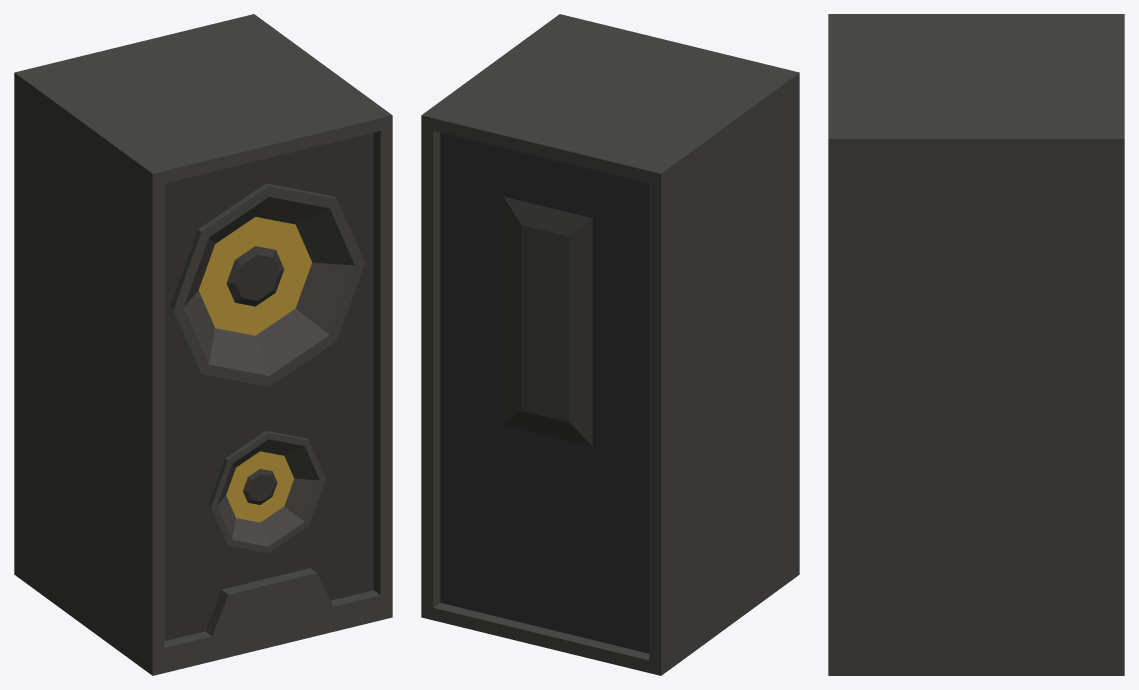
The model's file is SM_Props_Interior_House_Room_Speaker_01.fbx.
3 views of the same model, side by side, from view 1: azimuth 30°, elevation 25°; view 2: azimuth 150°, elevation 25°; view 3: azimuth 270°, elevation 25° (orthographic). The views are drawn at different scales.
Parts seen in each view (by area): view 1: SM_Props_Interior_House_Room_Speaker_01; view 2: SM_Props_Interior_House_Room_Speaker_01; view 3: SM_Props_Interior_House_Room_Speaker_01.
Part boxes in pixels (left/top/right/bottom): SM_Props_Interior_House_Room_Speaker_01: left=14, top=14, right=392, bottom=675; SM_Props_Interior_House_Room_Speaker_01: left=421, top=14, right=799, bottom=675; SM_Props_Interior_House_Room_Speaker_01: left=828, top=14, right=1124, bottom=675.
Bounding box in the file's own units: 20 × 40 × 20.
